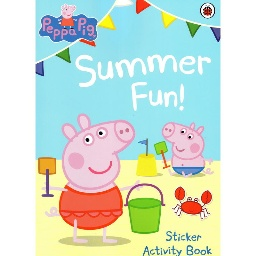Peppa: (42, 114, 145, 245)
